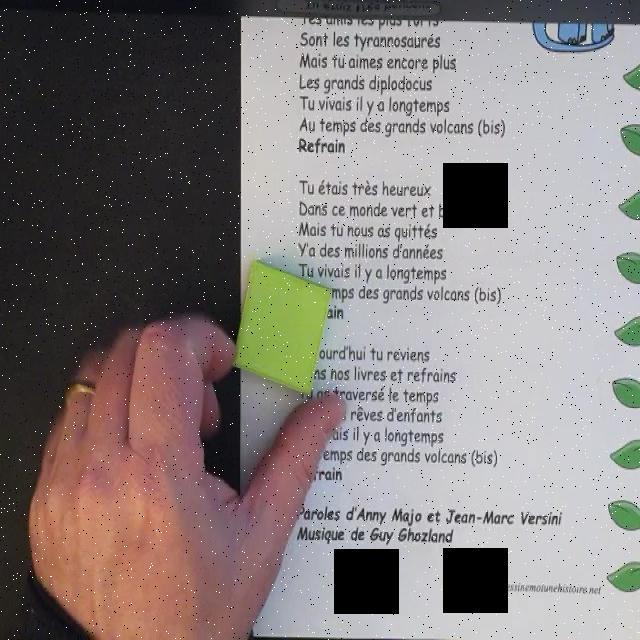square: (231, 260, 332, 394)
